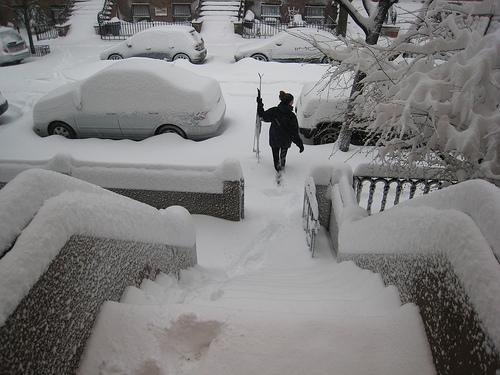car: (34, 57, 228, 141), (100, 24, 210, 64), (233, 27, 350, 62), (294, 79, 354, 146), (0, 26, 31, 67), (0, 91, 9, 117)
